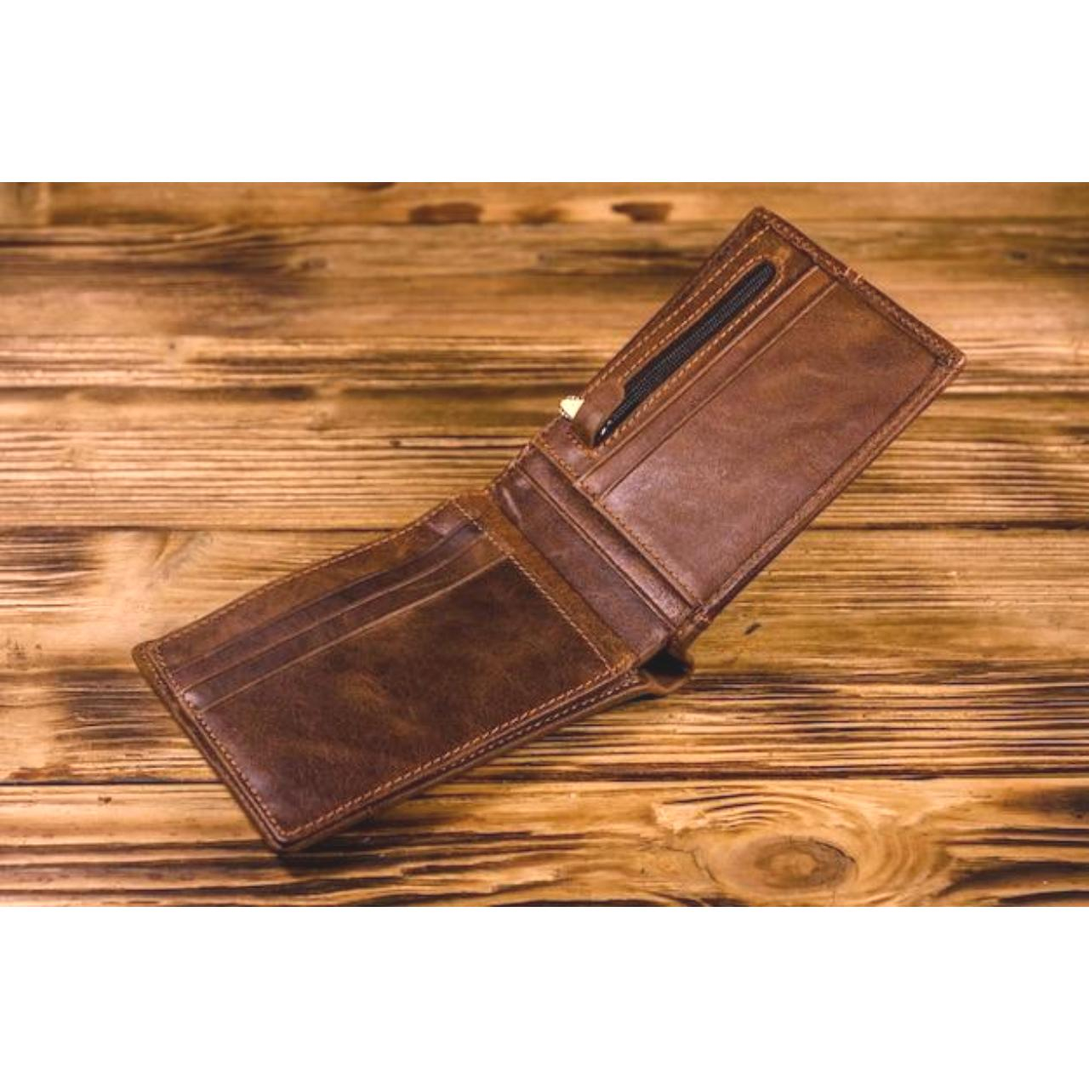wallet: (44, 214, 960, 863)
